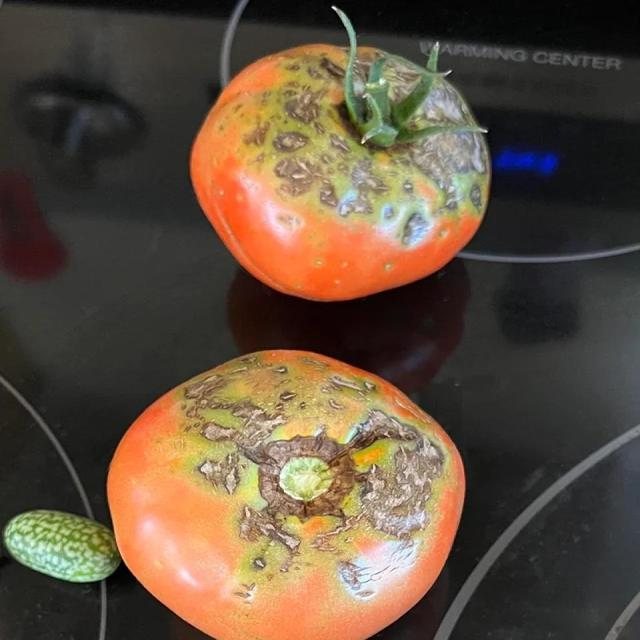Spotted wilt Virus Fruit: (191, 113, 238, 329)
